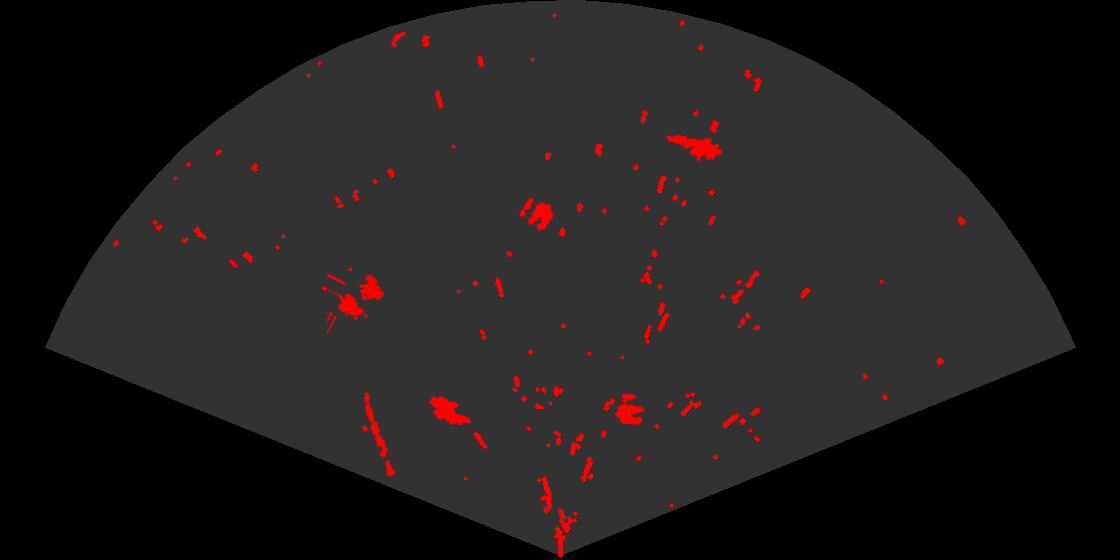AUV: (428, 395, 473, 427)
ball: (518, 196, 555, 232), (614, 392, 646, 426)
cage: (327, 271, 386, 336)
chain: (362, 391, 397, 479)
frogman: (664, 133, 722, 163)
